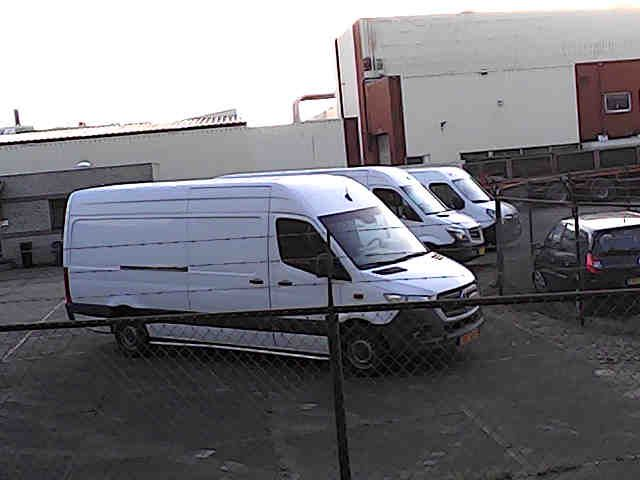suv: (533, 211, 639, 291)
whitevan: (64, 176, 476, 316), (223, 166, 484, 260), (407, 167, 495, 244)
